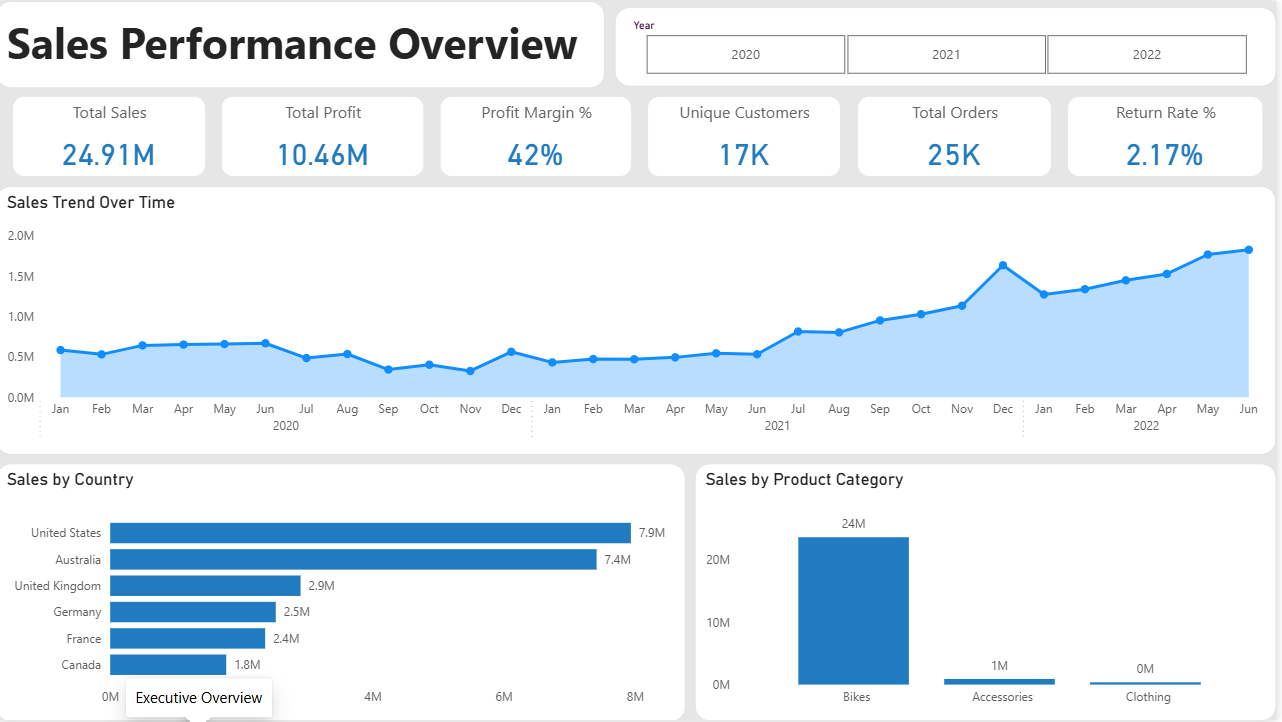

The page's visual inventory and layout, read from the dashboard file:
{"tool":"powerbi","page":{"name":"Executive Overview","canvas":[1280,720],"ordinal":0},"visuals":[{"type":"card","title":"Total Sales","fields":{"Values":["Sales.Total Sales"]},"box":[15.9,95.4,193.2,80.7],"z":0},{"type":"card","title":"Return Rate %","fields":{"Values":["Sales.Return Rate %"]},"box":[1071.2,95.4,195.7,80.7],"z":1000},{"type":"card","title":"Unique Customers","fields":{"Values":["Sales.Unique Customers"]},"box":[651.8,95.4,193.2,80.7],"z":2000},{"type":"card","title":"Total Orders","fields":{"Values":["Sales.Total Orders"]},"box":[867,95.4,194.4,80.7],"z":3000},{"type":"card","title":"Profit Margin %","fields":{"Values":["Sales.Profit Margin %"]},"box":[439,95.4,192,80.7],"z":4000},{"type":"card","title":"Total Profit","fields":{"Values":["Sales.Total Profit"]},"box":[223.8,95.4,203,80.7],"z":5000},{"type":"lineChart","title":"Sales Trend Over Time","fields":{"Y":["Sales.Total Sales"],"Category":["Date Table.Year","Date Table.Month Short"]},"box":[0,188.3,1280.3,265.4],"z":6000},{"type":"clusteredColumnChart","title":"Sales by Product Category","fields":{"Category":["Product Categories Lookup.CategoryName"],"Y":["Sales.Total Sales"]},"box":[708,462.2,572.3,258],"z":7000},{"type":"clusteredBarChart","title":" Sales by Country","fields":{"Category":["Territory Lookup.Country"],"Y":["Sales.Total Sales"]},"box":[0,462.2,689.7,258],"z":8000},{"type":"textbox","box":[0,0,609,86.8],"z":9000},{"type":"slicer","fields":{"Values":["Date Table.Year"]},"box":[618.8,0,661.6,79.5],"z":10000}]}

Visuals, with their boxes in screenshot pixels (x1, y1, x2, y2), scaled from the page's 1280x720 canvas onto the 1282x722 screenshot:
"Total Sales" card: {"left": 16, "top": 96, "right": 209, "bottom": 177}
"Return Rate %" card: {"left": 1073, "top": 96, "right": 1269, "bottom": 177}
"Unique Customers" card: {"left": 653, "top": 96, "right": 846, "bottom": 177}
"Total Orders" card: {"left": 868, "top": 96, "right": 1063, "bottom": 177}
"Profit Margin %" card: {"left": 440, "top": 96, "right": 632, "bottom": 177}
"Total Profit" card: {"left": 224, "top": 96, "right": 427, "bottom": 177}
"Sales Trend Over Time" lineChart: {"left": 0, "top": 189, "right": 1281, "bottom": 455}
"Sales by Product Category" clusteredColumnChart: {"left": 709, "top": 463, "right": 1281, "bottom": 721}
" Sales by Country" clusteredBarChart: {"left": 0, "top": 463, "right": 691, "bottom": 721}
textbox: {"left": 0, "top": 0, "right": 610, "bottom": 87}
slicer - Date Table.Year: {"left": 620, "top": 0, "right": 1281, "bottom": 80}
